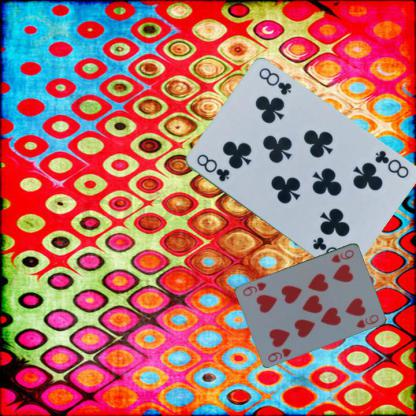8c: (372, 148, 410, 180), (194, 152, 231, 184)
9h: (265, 346, 293, 364), (328, 247, 356, 264)
